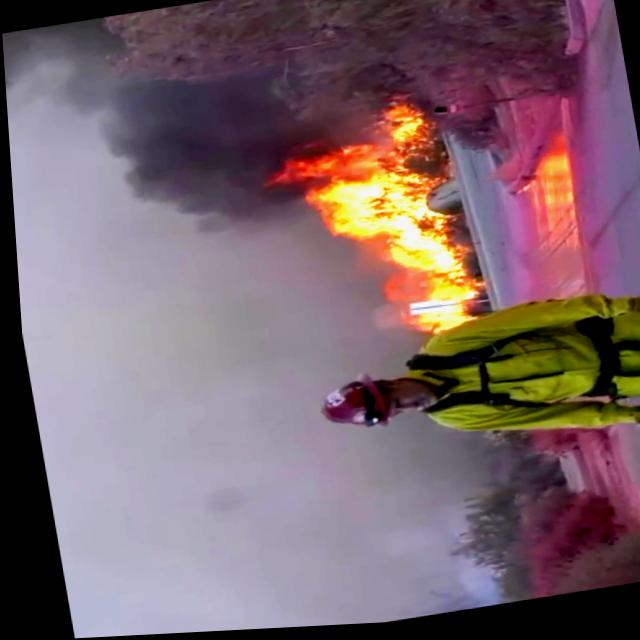fire: (271, 93, 481, 354)
smoke: (110, 76, 292, 276), (1, 14, 141, 181)
